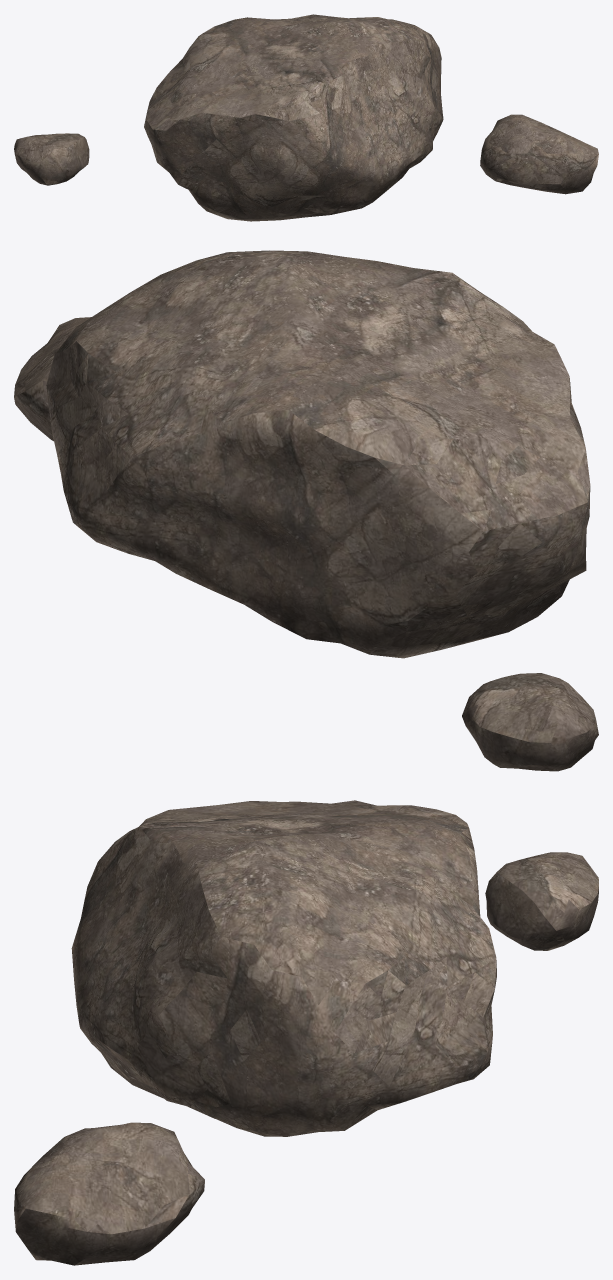
Rendered from rock_06.glb.
The picture shows the model from 3 angles, top to bottom: view 1: azimuth 30°, elevation 25°; view 2: azimuth 150°, elevation 25°; view 3: azimuth 270°, elevation 25°; orthographic projection. The views are drawn at different scales.
Parts seen in each view (by area): view 1: rock_06; view 2: rock_06; view 3: rock_06.
Part boxes in pixels (bbox=[...]): rock_06: bbox=[14, 14, 598, 221]; rock_06: bbox=[14, 250, 598, 771]; rock_06: bbox=[14, 800, 598, 1265].
Bounding box in the file's own units: 7.22 × 2.55 × 4.84.
1 material, 1 textured.
